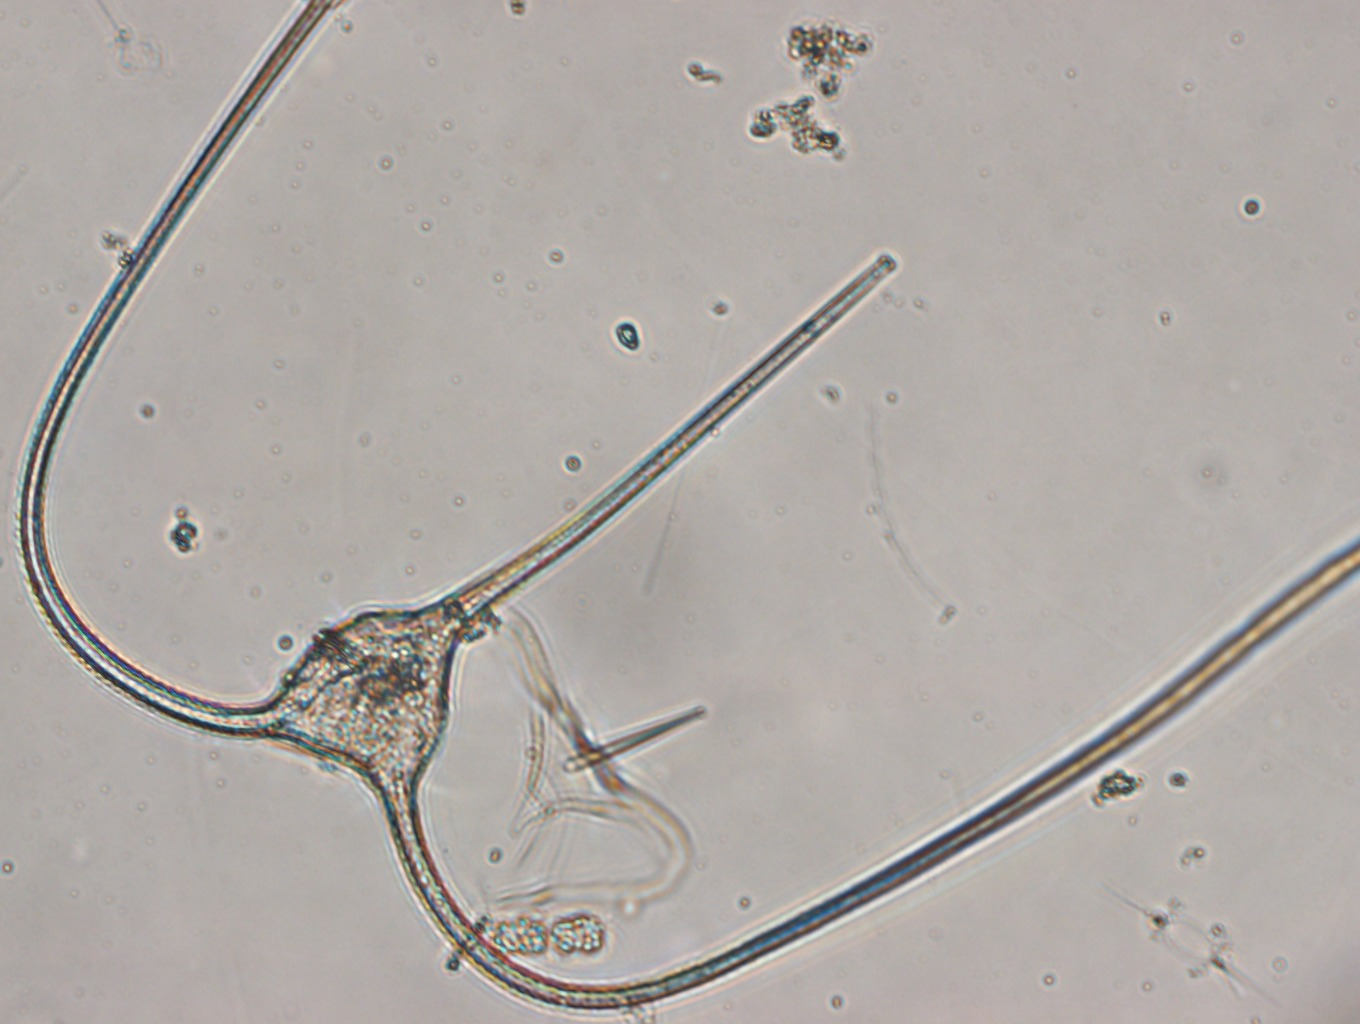ceratium trichoceros: (15, 1, 1360, 1015)
